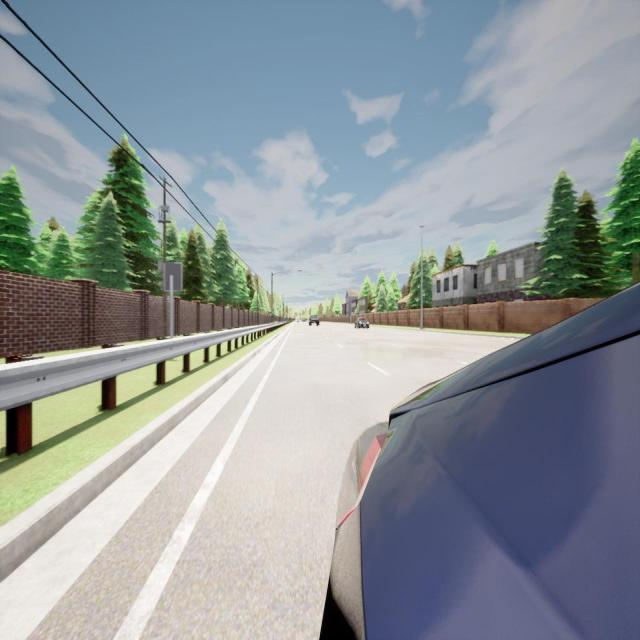Traffic_Signs: (163, 262, 182, 291)
Vehicle: (322, 284, 640, 638), (354, 318, 370, 329), (308, 315, 320, 326), (297, 319, 299, 322)
